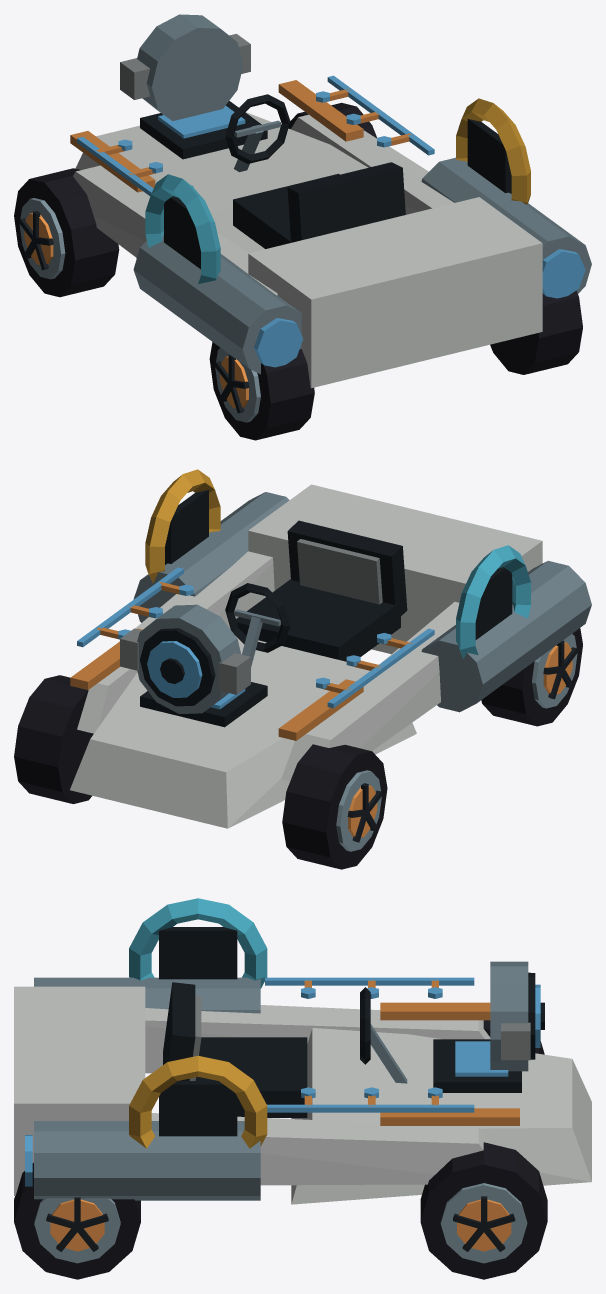
The model's file is kart.glb.
3 views of the same model, one above another, from view 1: azimuth 30°, elevation 25°; view 2: azimuth 150°, elevation 25°; view 3: azimuth 270°, elevation 25° (orthographic). The views are drawn at different scales.
Parts seen in each view (by area): view 1: identity-lab-pod-lab-pod-segmented-shell, identity-lab-pod-driver-cockpit, identity-lab-pod-motif-portal-rings, identity-lab-pod-motif-optic, wheel-front-left, wheel-rear-left, wheel-rear-right, identity-lab-pod-motif-circuit; view 2: identity-lab-pod-lab-pod-segmented-shell, identity-lab-pod-driver-cockpit, wheel-front-left, identity-lab-pod-motif-portal-rings, identity-lab-pod-motif-optic, wheel-front-right, wheel-rear-left, identity-lab-pod-motif-circuit; view 3: identity-lab-pod-lab-pod-segmented-shell, identity-lab-pod-motif-portal-rings, wheel-front-right, identity-lab-pod-driver-cockpit, wheel-rear-right, identity-lab-pod-motif-optic, identity-lab-pod-motif-circuit.
Boxes of the visible parts, x1,y1,x2,y2 form: identity-lab-pod-lab-pod-segmented-shell: (70, 80, 591, 388); identity-lab-pod-driver-cockpit: (225, 94, 405, 248); identity-lab-pod-motif-portal-rings: (145, 98, 530, 284); identity-lab-pod-motif-optic: (120, 14, 250, 121); wheel-front-left: (14, 168, 119, 297); wheel-rear-left: (209, 342, 314, 440); wheel-rear-right: (490, 290, 582, 374); identity-lab-pod-motif-circuit: (77, 75, 434, 195); identity-lab-pod-lab-pod-segmented-shell: (70, 484, 591, 828); identity-lab-pod-driver-cockpit: (225, 520, 407, 666); wheel-front-left: (282, 744, 387, 869); identity-lab-pod-motif-portal-rings: (145, 469, 530, 658); identity-lab-pod-motif-optic: (120, 604, 250, 713); wheel-front-right: (14, 675, 93, 803); wheel-rear-left: (481, 628, 582, 726); identity-lab-pod-motif-circuit: (77, 567, 434, 708); identity-lab-pod-lab-pod-segmented-shell: (14, 977, 591, 1204); identity-lab-pod-motif-portal-rings: (129, 898, 267, 1148); wheel-front-right: (420, 1142, 547, 1279); identity-lab-pod-driver-cockpit: (163, 982, 407, 1117); wheel-rear-right: (14, 1163, 140, 1279); identity-lab-pod-motif-optic: (490, 961, 544, 1071); identity-lab-pod-motif-circuit: (265, 977, 474, 1112).
Size of the model in its own units: 1.98 by 1.22 by 2.73.
